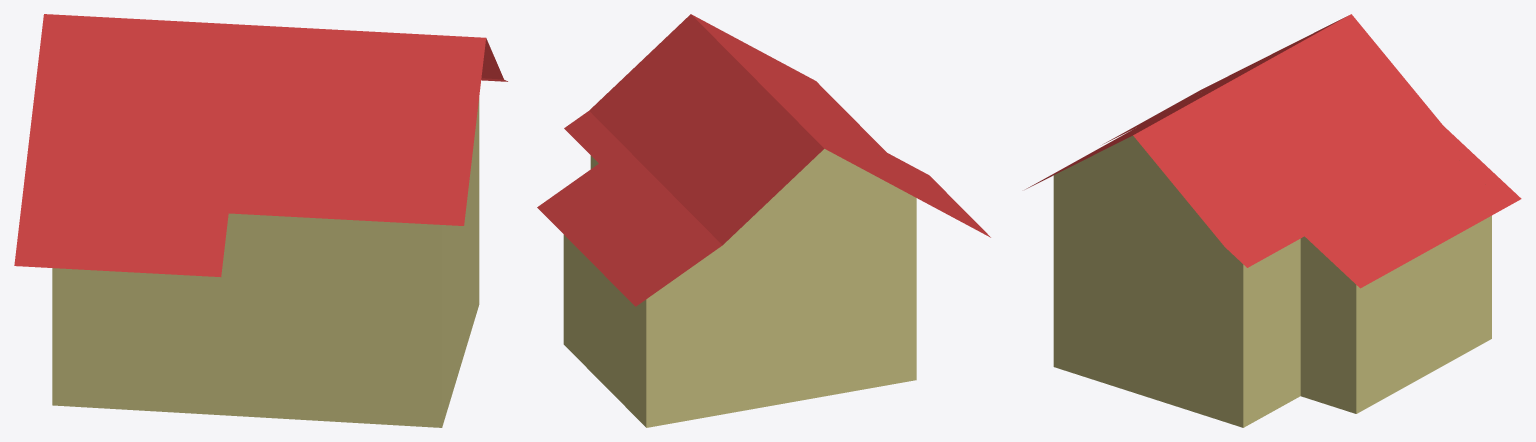
3 renders of one model, left to right at view 1: azimuth 30°, elevation 25°; view 2: azimuth 150°, elevation 25°; view 3: azimuth 270°, elevation 25°, orthographic. The views are drawn at different scales.
Size of the model in its own units: 17.32 by 17.76 by 10.49.
